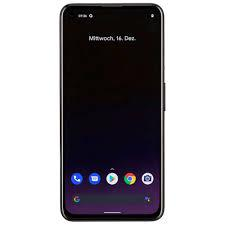Smartphone: (62, 5, 160, 221)
